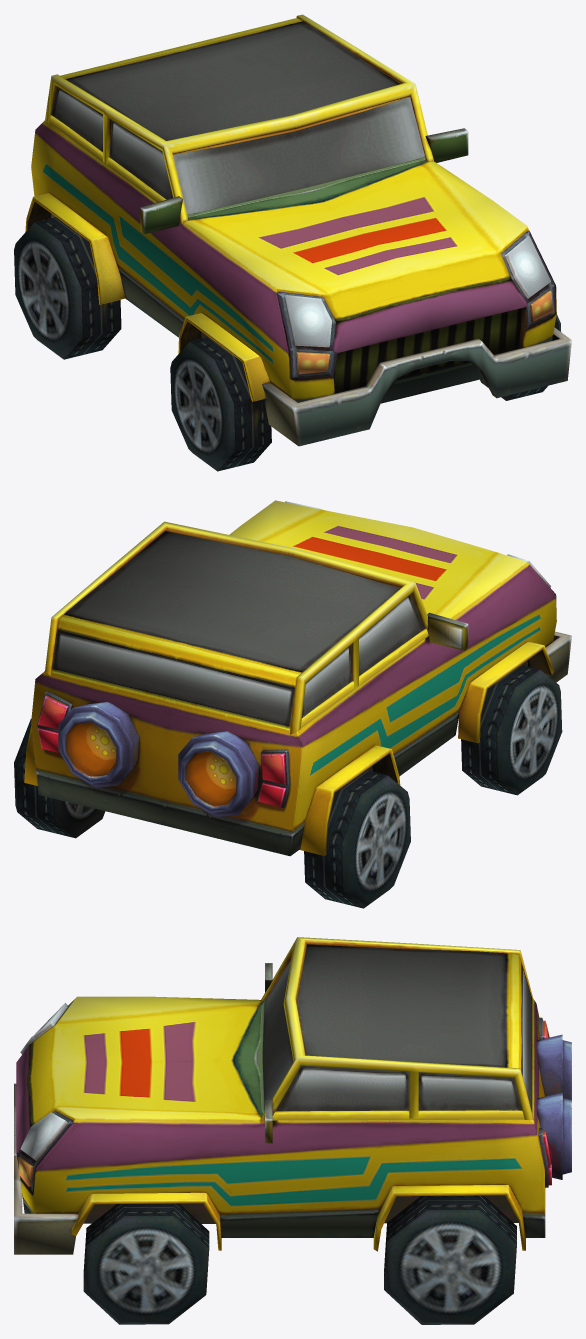
File: npc_car_1.fbx
3 views of the same model, one above another, from view 1: azimuth 30°, elevation 25°; view 2: azimuth 150°, elevation 25°; view 3: azimuth 270°, elevation 25° (orthographic).
Visible parts, largest first — view 1: npc_car_1; view 2: npc_car_1; view 3: npc_car_1.
Boxes of the visible parts, <box> form: npc_car_1: <box>14,14,571,471</box>; npc_car_1: <box>14,500,571,908</box>; npc_car_1: <box>14,937,571,1324</box>.
Bounding box in the file's own units: 26.45 × 18.83 × 38.33.
